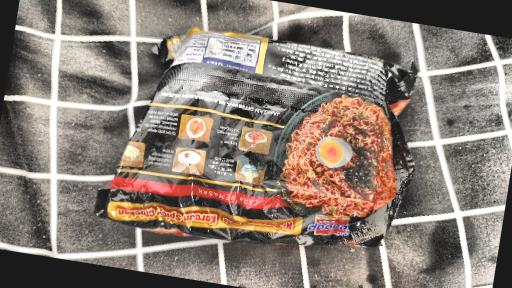mie sedap: (117, 9, 453, 283)
